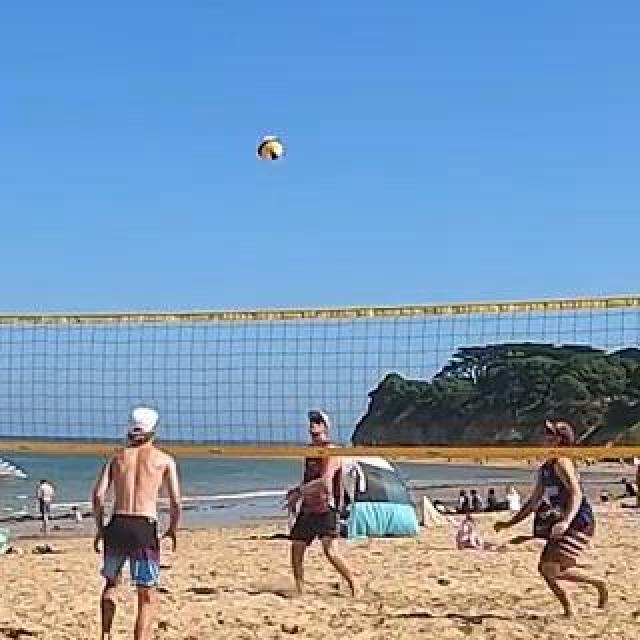volleyball: (258, 137, 284, 161)
